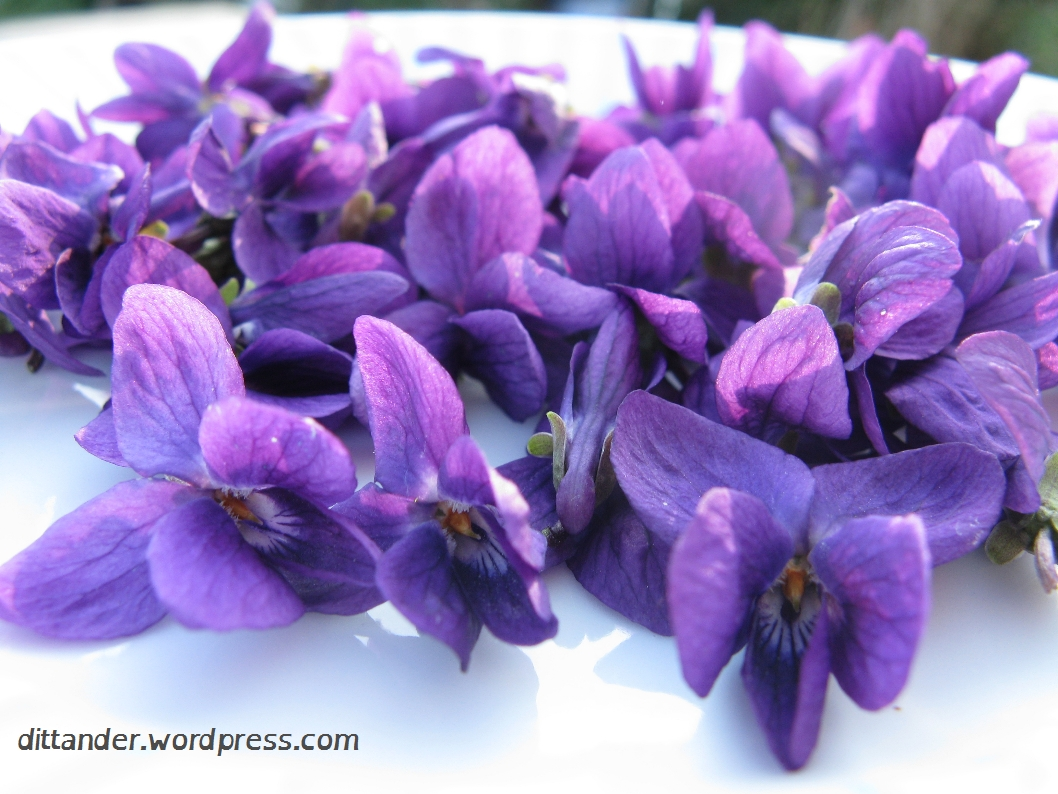violet: (4, 30, 1058, 366), (603, 360, 983, 769), (82, 299, 369, 652), (332, 326, 574, 649)
